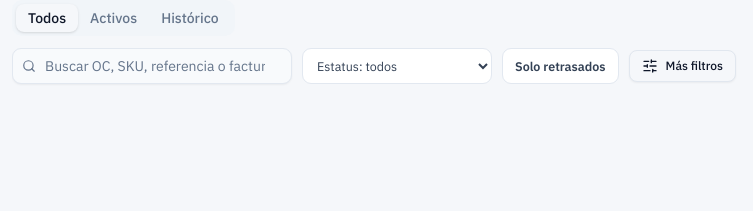
Test case: EmbarquesFiltros › facetasPaises vacía: el select de País NO se pinta aunque el panel esté abierto (filtro dirigido por facetas)
Click the button "Más filtros" at (682, 66), box [629,50,736,82]
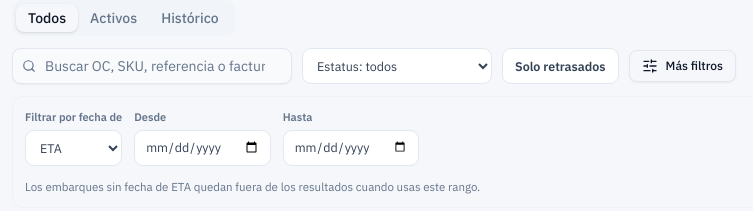
Result: the dropdown labelled "Filtrar por fecha de" is shown at [25,130,122,166]
